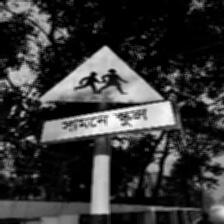School-in-front: (38, 45, 173, 145)
